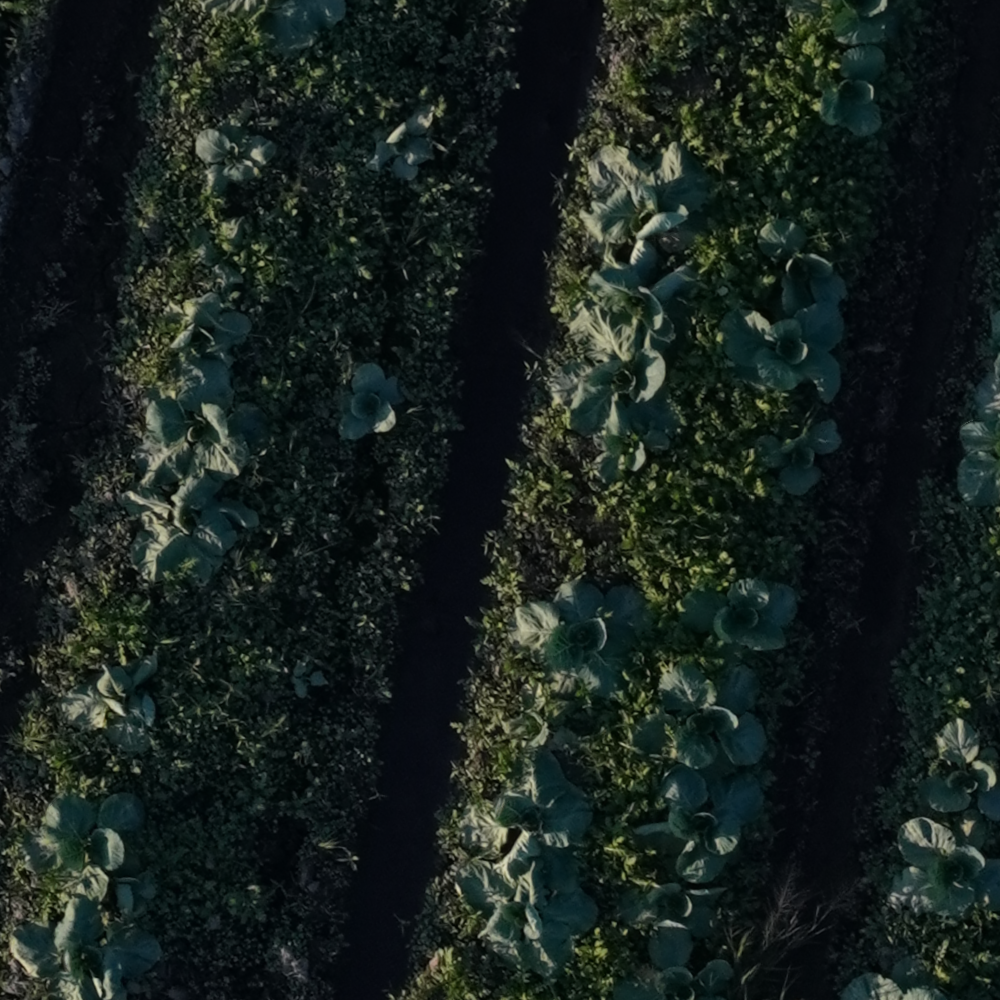Cabbage: (457, 747, 593, 895), (115, 467, 261, 587), (549, 300, 675, 437), (453, 860, 597, 978), (133, 359, 262, 490), (507, 580, 645, 700), (7, 893, 157, 1000), (635, 662, 767, 780), (632, 767, 764, 884), (578, 143, 711, 255), (588, 240, 697, 364), (721, 300, 844, 404), (22, 787, 145, 884), (890, 812, 1000, 918), (60, 651, 157, 753), (613, 921, 736, 1000), (676, 576, 796, 651), (820, 46, 914, 137), (757, 220, 846, 315), (921, 718, 1000, 823), (506, 678, 578, 790), (200, 0, 345, 54), (195, 116, 279, 197), (754, 419, 841, 495), (615, 882, 729, 939), (366, 105, 448, 181), (785, 0, 919, 46), (338, 362, 404, 440), (592, 427, 671, 485), (840, 958, 946, 1000), (958, 417, 1000, 510)
